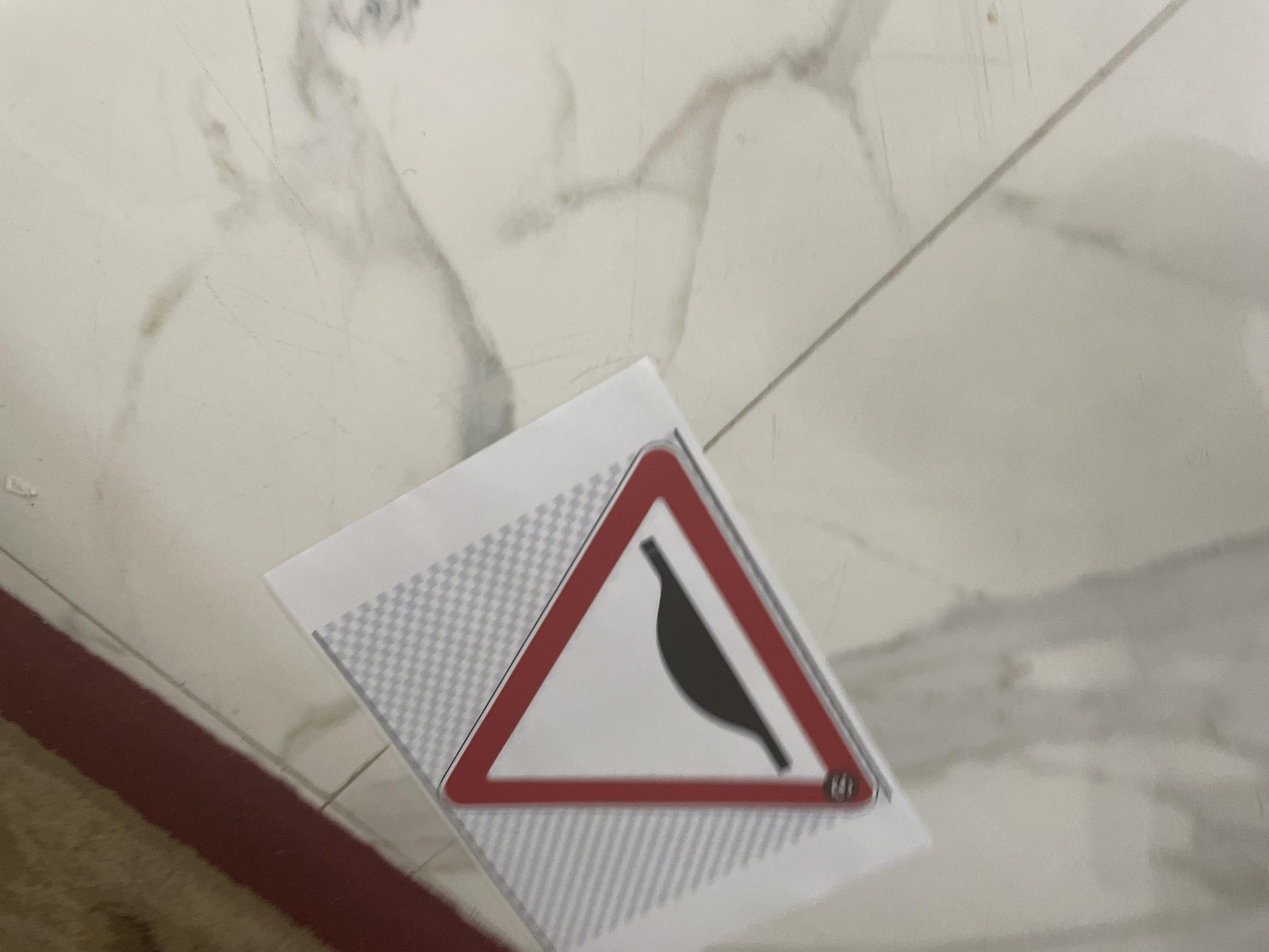Hump: (170, 326, 697, 668)
